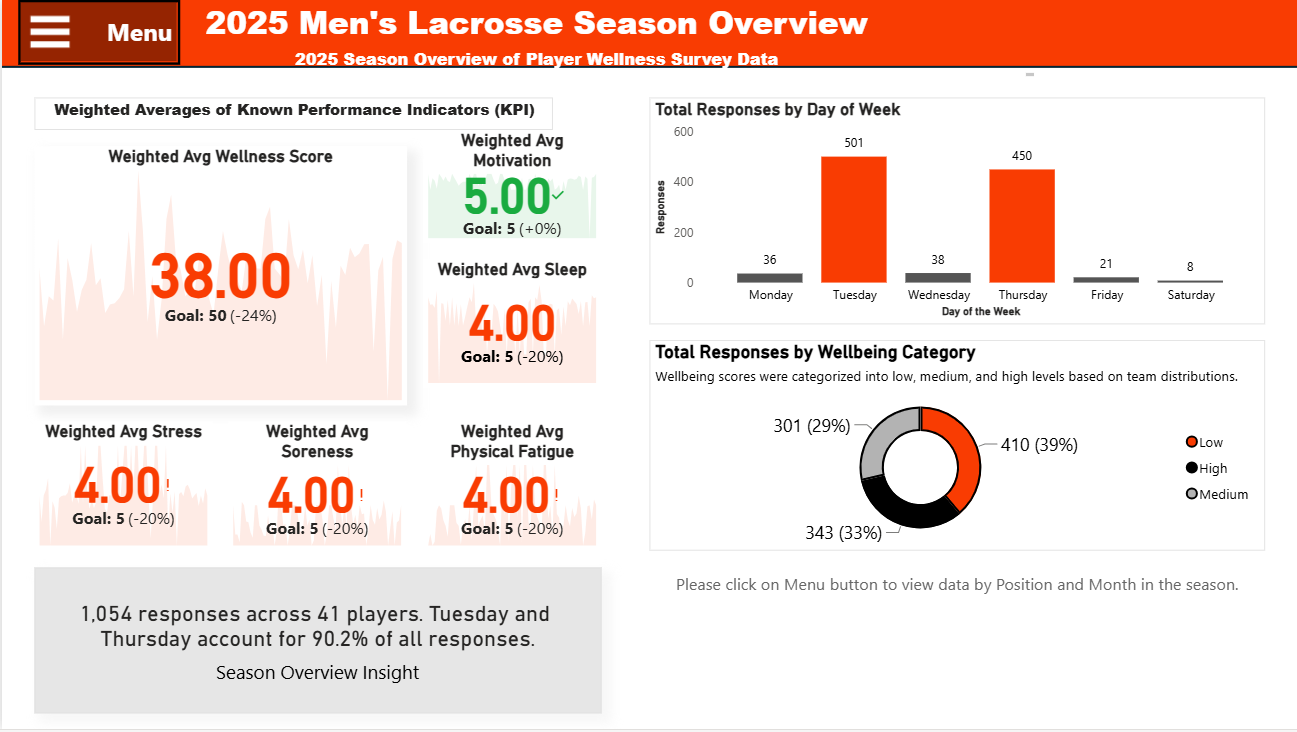

The page's visual inventory and layout, read from the dashboard file:
{"tool":"powerbi","page":{"name":"Season Overview","canvas":[1280,720],"ordinal":0},"visuals":[{"type":"textbox","box":[640,560,608,144],"z":0},{"type":"kpi","title":"Weighted Avg Wellness Score","fields":{"Goal":["_Measures.Wellbeing Target"],"Indicator":["_Measures.Weighted Avg Wellbeing"],"TrendLine":["Wellness Data 2025.Date"]},"box":[32,144,368,256],"z":1000},{"type":"kpi","title":"Weighted Avg Sleep","fields":{"Goal":["_Measures.Sleep Target"],"Indicator":["_Measures.Weighted Avg Sleep"],"TrendLine":["Wellness Data 2025.Date"]},"box":[416,256,176,128],"z":2000},{"type":"kpi","title":"Weighted Avg Motivation ","fields":{"Goal":["_Measures.Motivation Target"],"Indicator":["_Measures.Weighted Avg Motivation"],"TrendLine":["Wellness Data 2025.Date"]},"box":[416,128,176,112],"z":3000},{"type":"kpi","title":"Weighted Avg Stress ","fields":{"Goal":["_Measures.Stress target"],"Indicator":["_Measures.Weighted Avg Stress"],"TrendLine":["Wellness Data 2025.Date"]},"box":[32,416,176,128],"z":4000},{"type":"kpi","title":"Weighted Avg Physical Fatigue ","fields":{"Goal":["_Measures.Physical Fatigue Target"],"Indicator":["_Measures.Weighted Avg Physical Fatigue"],"TrendLine":["Wellness Data 2025.Date"]},"box":[416,416,176,128],"z":5000},{"type":"kpi","title":"Weighted Avg Soreness ","fields":{"Goal":["_Measures.Soreness Total"],"Indicator":["_Measures.Weighted Avg Soreness"],"TrendLine":["Wellness Data 2025.Date"]},"box":[224,416,176,128],"z":6000},{"type":"textbox","title":"2025 Men''s Lacrosse Season Overview","box":[32,0,992,80],"z":7000},{"type":"textbox","title":"Weighted Averages of Known Performance Indicators (KPI)","box":[32,96,512,32],"z":8000},{"type":"columnChart","title":"Total Responses by Day of Week","fields":{"Category":["DaySortTable.Day_of_Week"],"Y":["_Measures.Total Responses"]},"box":[640,96,608,224],"z":9000},{"type":"donutChart","title":"Total Responses by Wellbeing Category","fields":{"Category":["Wellness Data 2025.Wellbeing_cat"],"Y":["_Measures.Total Responses"]},"box":[640,336,608,208],"z":10000},{"type":"card","fields":{"Values":["_Measures.Season Overview Insight"]},"box":[32,560,560,144],"z":11000},{"type":"actionButton","box":[16,0,160,64],"z":12000}]}

Visuals, with their boxes in screenshot pixels (x1, y1, x2, y2), scaled from the page's 1280x720 canvas onto the 1297x732 screenshot:
textbox: <region>648, 569, 1265, 716</region>
"Weighted Avg Wellness Score" kpi: <region>32, 146, 405, 407</region>
"Weighted Avg Sleep" kpi: <region>422, 260, 600, 390</region>
"Weighted Avg Motivation " kpi: <region>422, 130, 600, 244</region>
"Weighted Avg Stress " kpi: <region>32, 423, 211, 553</region>
"Weighted Avg Physical Fatigue " kpi: <region>422, 423, 600, 553</region>
"Weighted Avg Soreness " kpi: <region>227, 423, 405, 553</region>
"2025 Men''s Lacrosse Season Overview" textbox: <region>32, 0, 1038, 81</region>
"Weighted Averages of Known Performance Indicators (KPI)" textbox: <region>32, 98, 551, 130</region>
"Total Responses by Day of Week" columnChart: <region>648, 98, 1265, 325</region>
"Total Responses by Wellbeing Category" donutChart: <region>648, 342, 1265, 553</region>
card - _Measures.Season Overview Insight: <region>32, 569, 600, 716</region>
actionButton: <region>16, 0, 178, 65</region>
